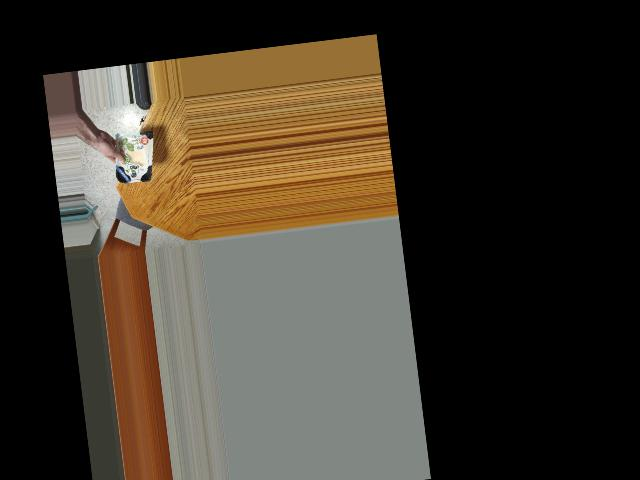cheese: (108, 123, 159, 192)
